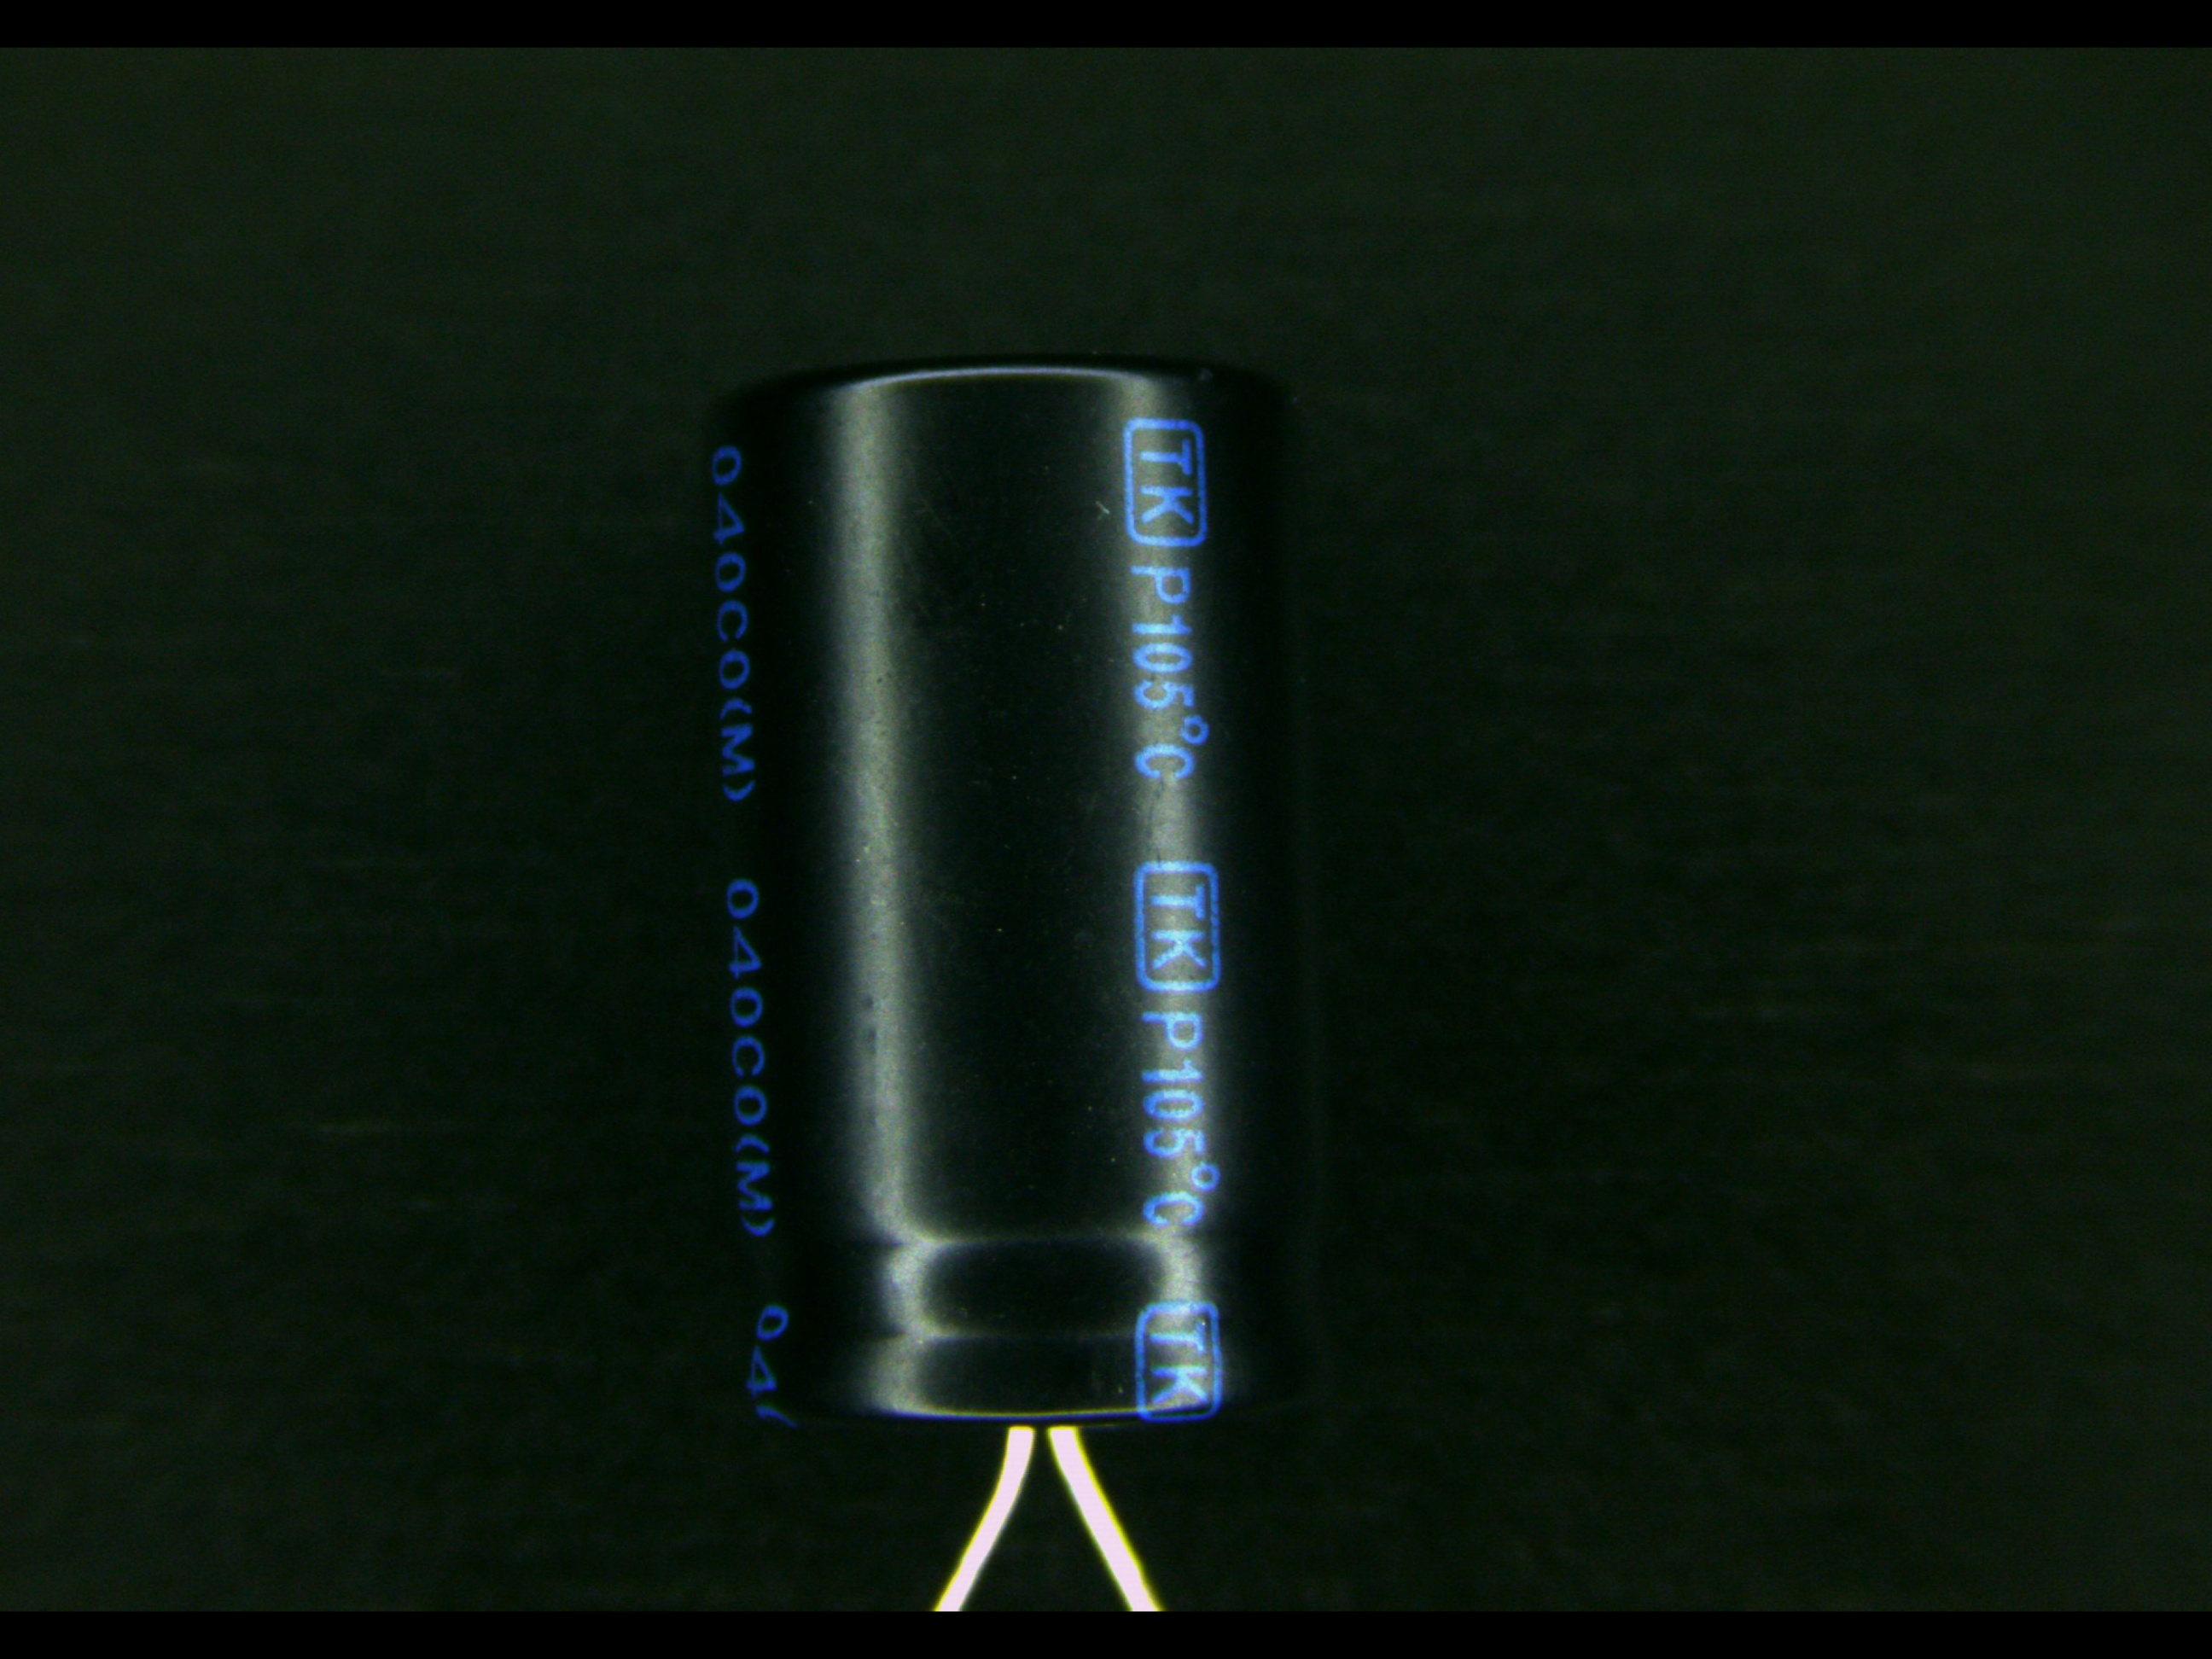c2: (679, 354, 1332, 1525)
